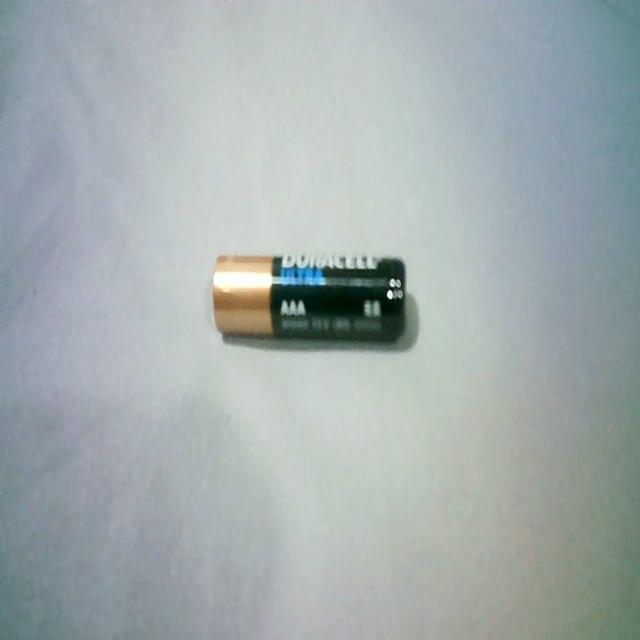AAA: (208, 246, 412, 357)
